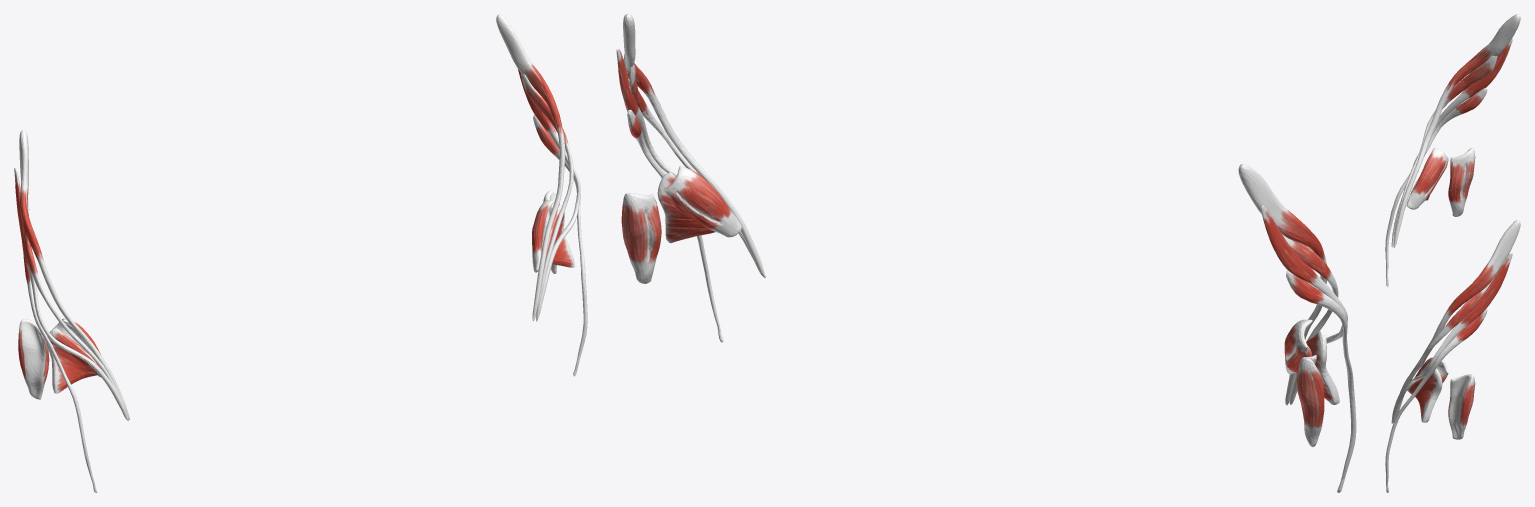
The model's file is SubTool-9-16570091.OBJ.
3 views of the same model, side by side, from view 1: azimuth 30°, elevation 25°; view 2: azimuth 150°, elevation 25°; view 3: azimuth 270°, elevation 25° (orthographic). The views are drawn at different scales.
Parts seen in each view (by area): view 1: Group44936; view 2: Group44936; view 3: Group44936.
Boxes of the visible parts, x1,y1,x2,y2 form: Group44936: (14,14,587,492); Group44936: (616,14,1356,492); Group44936: (1385,14,1520,492).
Bounding box in the file's own units: 25.72 × 13.89 × 6.24.
1 material, 1 textured.
